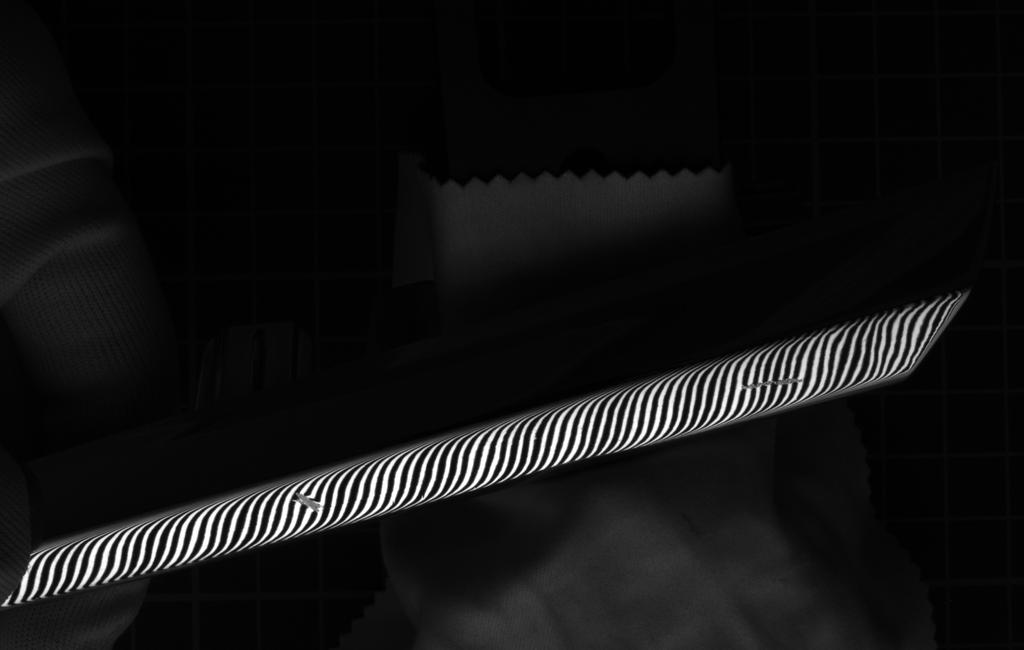Scratch: (729, 370, 816, 395), (286, 490, 338, 517)
